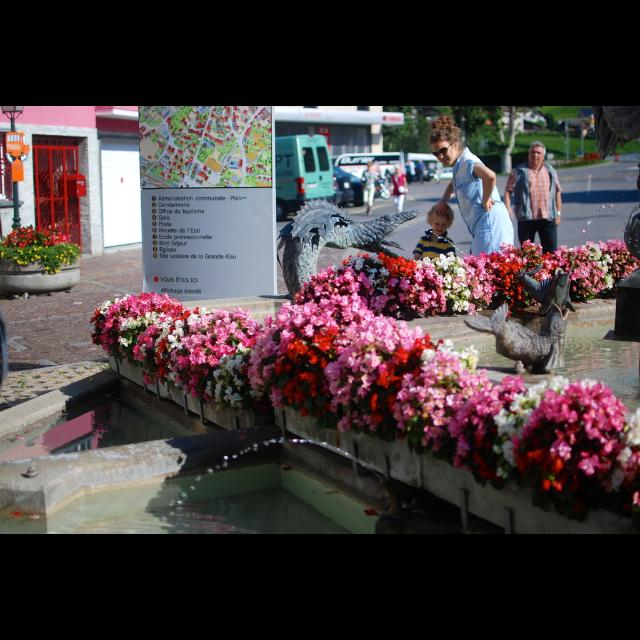Flower: (88, 238, 640, 510), (2, 220, 72, 248)
